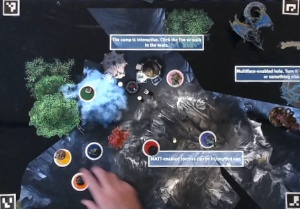blue: (83, 140, 106, 159)
green: (76, 82, 97, 103)
orange: (70, 168, 92, 192)
pink: (164, 67, 184, 89)
red: (141, 138, 165, 159)
violet: (196, 128, 218, 149)
yellow: (50, 147, 71, 167)
